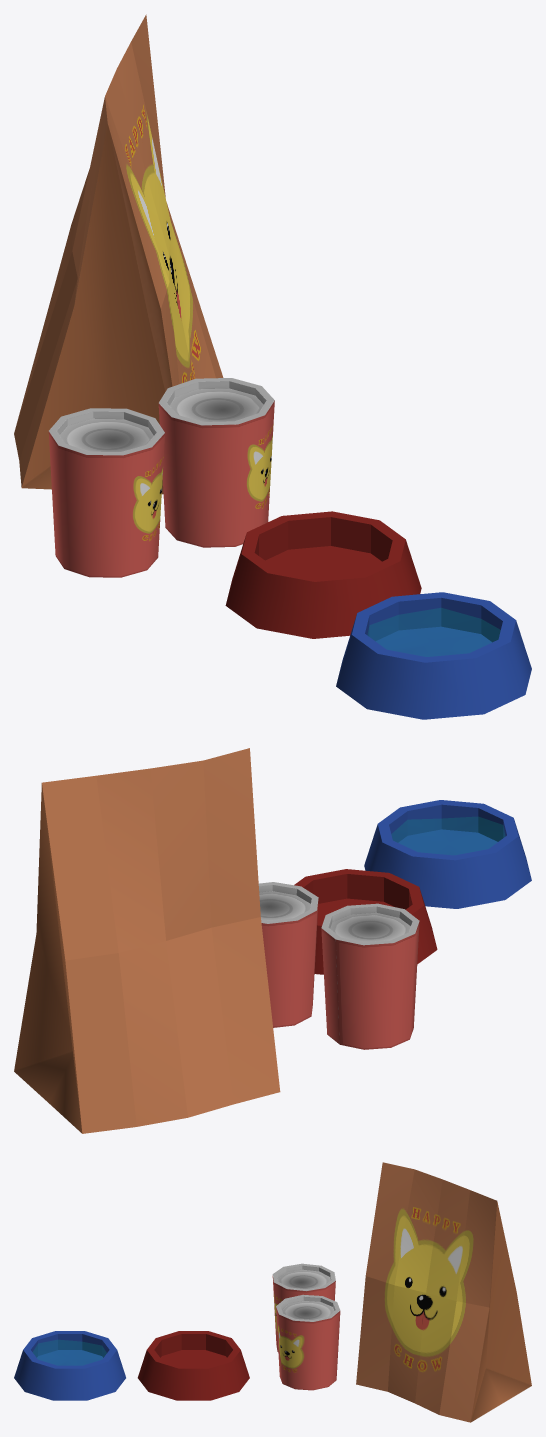
Rendered from Food.fbx.
The picture shows the model from 3 angles, top to bottom: view 1: azimuth 30°, elevation 25°; view 2: azimuth 150°, elevation 25°; view 3: azimuth 270°, elevation 25°; orthographic projection. The views are drawn at different scales.
Visible parts, largest first — view 1: FoodBag, WaterBowl, FoodBowl, DogFoodCan2, DogFoodCan, Water; view 2: FoodBag, WaterBowl, DogFoodCan2, DogFoodCan, FoodBowl, Water; view 3: FoodBag, WaterBowl, FoodBowl, DogFoodCan, DogFoodCan2, Water.
Part boxes in pixels (box(x1,y1,x2,y2)): FoodBag: box(14, 14, 223, 494); WaterBowl: box(336, 592, 531, 719); FoodBowl: box(225, 511, 421, 638); DogFoodCan2: box(48, 408, 164, 577); DogFoodCan: box(158, 378, 274, 547); Water: box(368, 608, 500, 656); FoodBag: box(14, 748, 280, 1133); WaterBowl: box(364, 800, 531, 908); DogFoodCan2: box(321, 903, 419, 1049); DogFoodCan: box(258, 882, 318, 1027); FoodBowl: box(294, 869, 437, 974); Water: box(391, 817, 504, 854); FoodBag: box(356, 1162, 531, 1422); WaterBowl: box(14, 1331, 125, 1400); FoodBowl: box(137, 1331, 249, 1400); DogFoodCan: box(276, 1294, 340, 1390); DogFoodCan2: box(272, 1263, 335, 1351); Water: box(33, 1340, 106, 1365).
Bounding box in the file's own units: 46.13 × 51.05 × 116.
5 materials, 2 textured.
